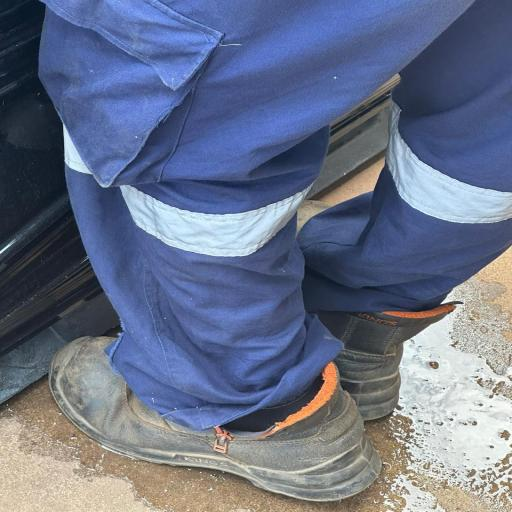safety_shoe: (54, 321, 387, 510), (318, 278, 480, 427)
